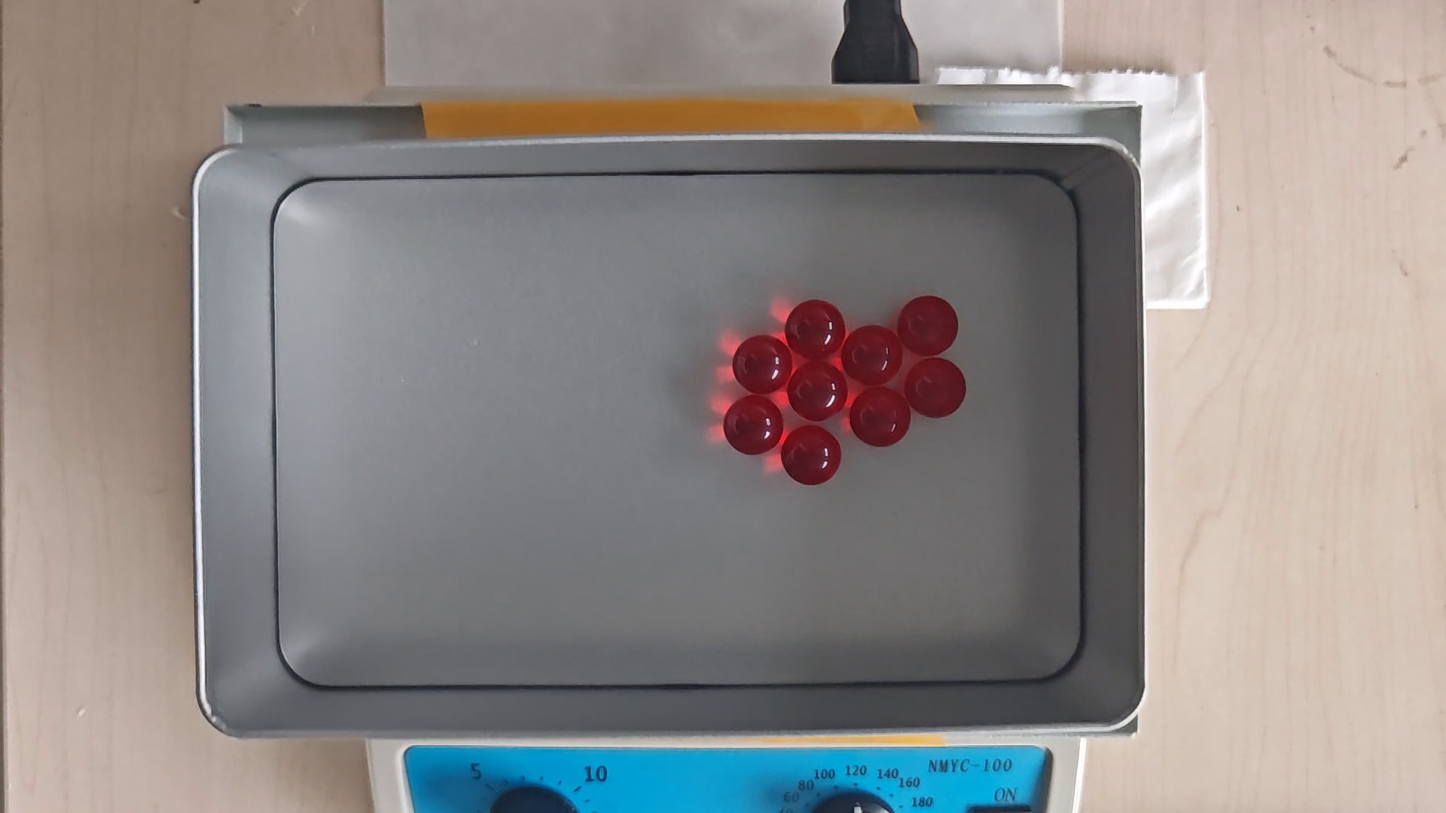ball: (781, 425, 843, 487), (897, 294, 958, 356), (906, 359, 967, 419), (850, 388, 911, 448), (785, 299, 845, 360), (723, 395, 782, 455), (843, 326, 903, 385), (789, 363, 848, 422), (733, 335, 790, 394)
container: (275, 172, 1081, 687)
